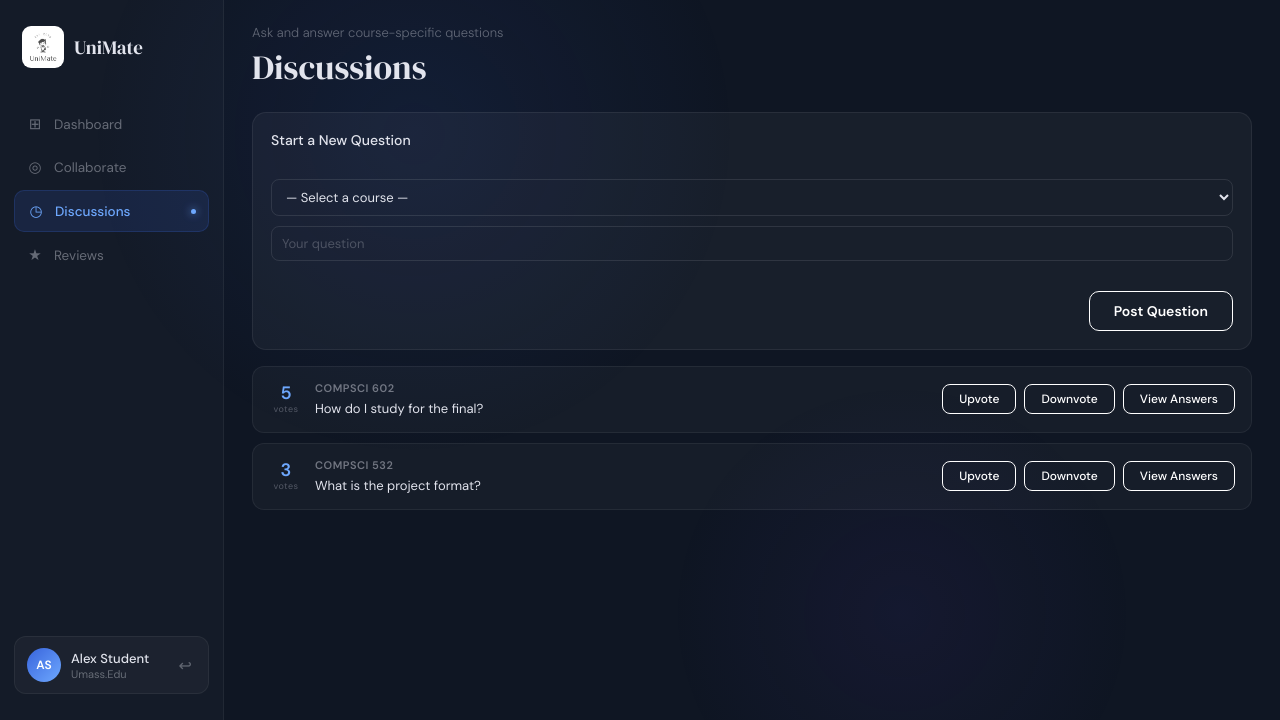
Scenario: DiscussionsPage › answers › shows no answers message when answers is empty
The width and height of the screenshot is (1280, 720).
Step 1. Click the button "View Answers" in the row of "How do I study for the final?" → (1179, 399), box top-left (1123, 384), bottom-right (1235, 414)
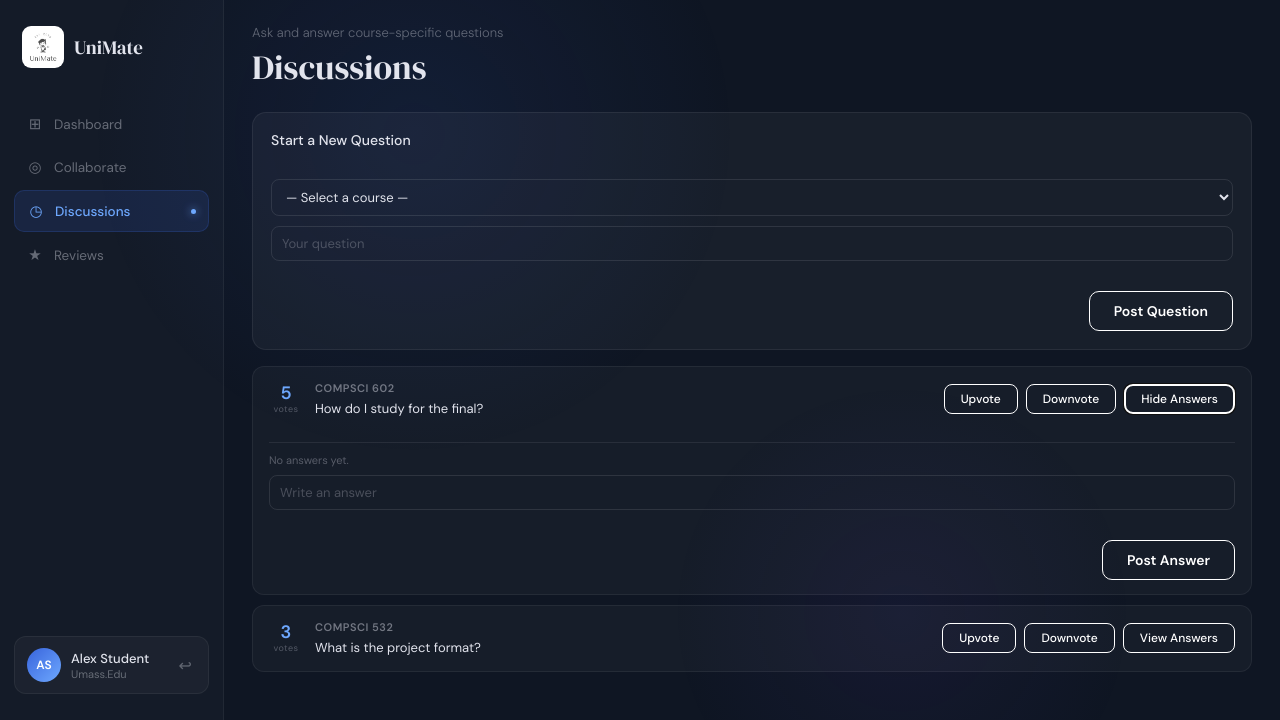
Expected: the text "No answers yet." is shown, top-left (269, 453), bottom-right (349, 467)
